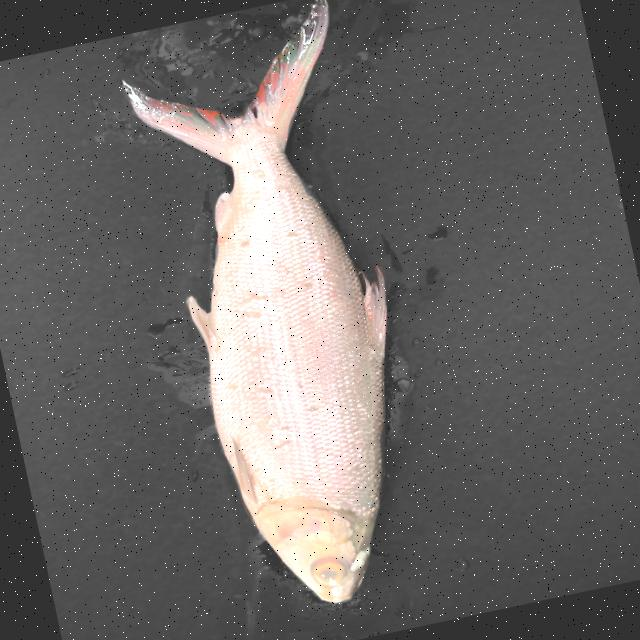820 g: (111, 0, 449, 624)
